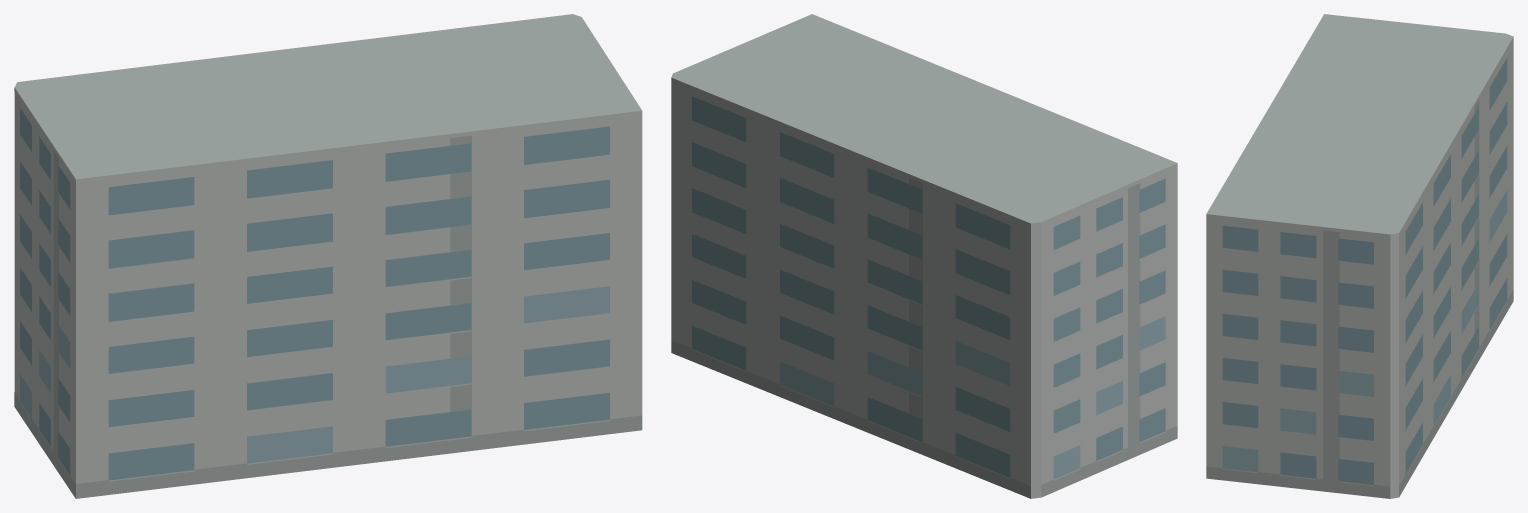
The model's file is survey-upis-32968286.glb.
3 views of the same model, side by side, from view 1: azimuth 30°, elevation 25°; view 2: azimuth 150°, elevation 25°; view 3: azimuth 270°, elevation 25° (orthographic). The views are drawn at different scales.
Visible parts, largest first — view 1: survey-upis-32968286.tmp; view 2: survey-upis-32968286.tmp; view 3: survey-upis-32968286.tmp.
Boxes of the visible parts, bbox=[...] form: survey-upis-32968286.tmp: bbox=[14, 14, 642, 498]; survey-upis-32968286.tmp: bbox=[671, 14, 1177, 498]; survey-upis-32968286.tmp: bbox=[1206, 14, 1513, 498].
Size of the model in its own units: 33.71 by 18.85 by 19.86.
